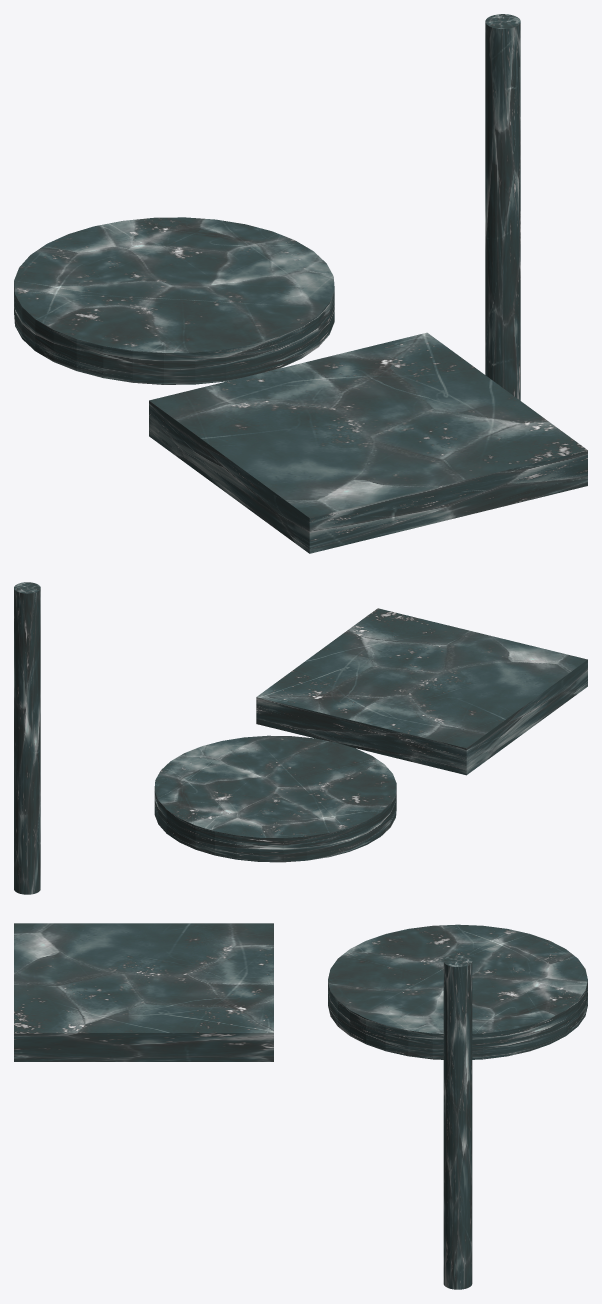
The model's file is ice.fbx.
The picture shows the model from 3 angles, top to bottom: view 1: azimuth 30°, elevation 25°; view 2: azimuth 150°, elevation 25°; view 3: azimuth 270°, elevation 25°; orthographic projection. The views are drawn at different scales.
Parts seen in each view (by area): view 1: Cube, Cylinder, Cylinder.001; view 2: Cube, Cylinder, Cylinder.001; view 3: Cube, Cylinder, Cylinder.001.
Part boxes in pixels (x1,y1,x2,y2): Cube: (149,332,587,553); Cylinder: (14,217,334,384); Cylinder.001: (485,14,520,400); Cube: (256,608,587,775); Cylinder: (154,735,396,862); Cylinder.001: (14,582,40,894); Cube: (14,923,273,1061); Cylinder: (328,924,587,1059); Cylinder.001: (443,955,472,1289).
Size of the model in its own units: 347 by 274 by 441.
Materials: 1 (1 with a texture image).
